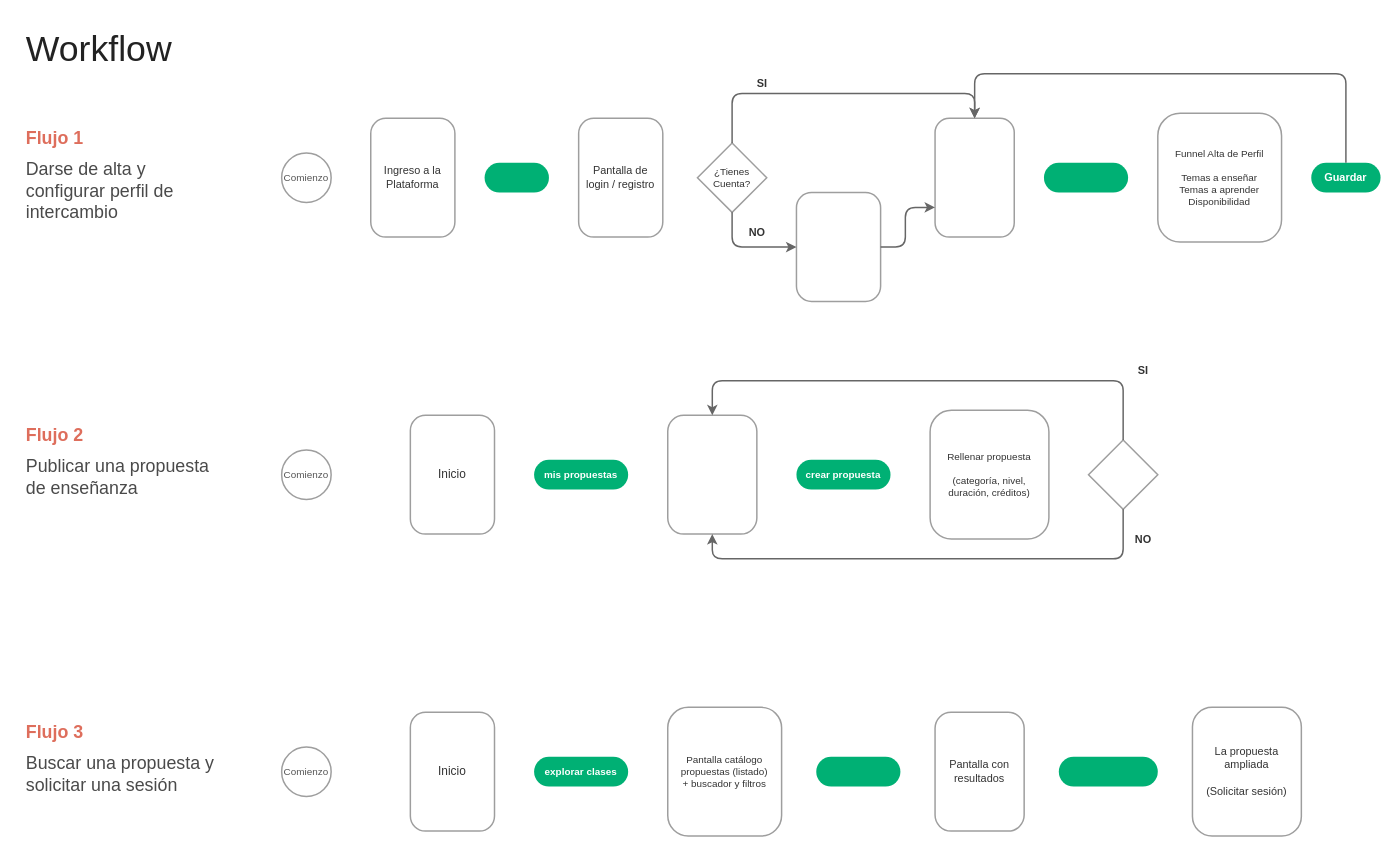
Some shapes in this 1398 by 854 pixel diagram are drawn without their labels. The centre of each missing label's shape, as x and y in pixels:
"acceder" goes at (x=516, y=177).
"Buscar tema" goes at (x=858, y=771).
"Configurar perfil" goes at (x=1085, y=177).
"Ir a Inicio" goes at (x=974, y=177).
"Pantalla de registro" goes at (x=838, y=246).
"Pantalla mis propuestas" goes at (x=712, y=474).
"Seleccionar clase" goes at (x=1107, y=771).
"¿Quieres publicar?" goes at (x=1122, y=474).
